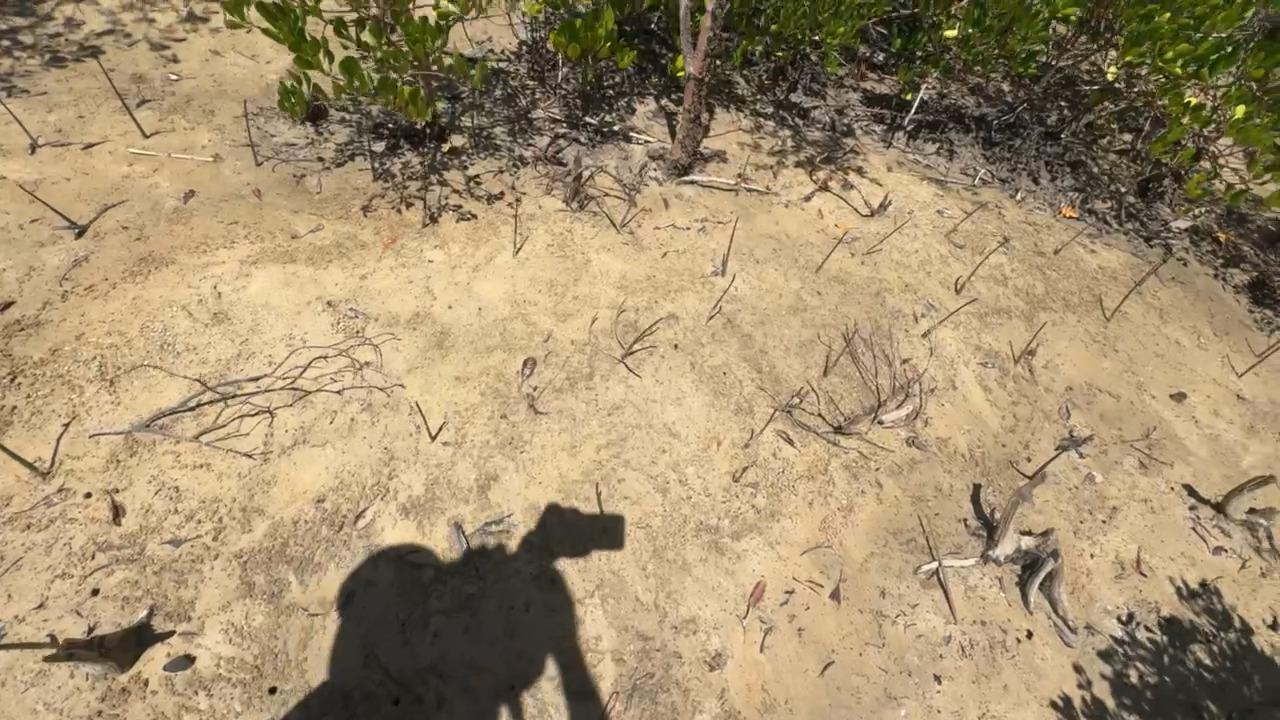Tree: (86, 43, 150, 142), (9, 169, 91, 232), (924, 511, 963, 622), (1106, 256, 1169, 323), (954, 238, 1009, 295), (920, 296, 982, 340), (2, 94, 41, 155), (862, 216, 915, 257), (2, 440, 51, 483), (620, 312, 663, 361), (1013, 320, 1052, 368), (944, 201, 995, 234), (824, 328, 857, 379), (813, 229, 850, 274), (1028, 441, 1072, 478), (1235, 347, 1280, 378), (1054, 220, 1093, 254), (745, 404, 779, 441), (720, 214, 739, 278), (709, 271, 737, 314), (244, 98, 260, 166), (413, 399, 437, 441), (623, 205, 653, 229), (737, 151, 751, 196), (367, 134, 379, 183), (512, 199, 521, 258), (1256, 336, 1279, 356)
